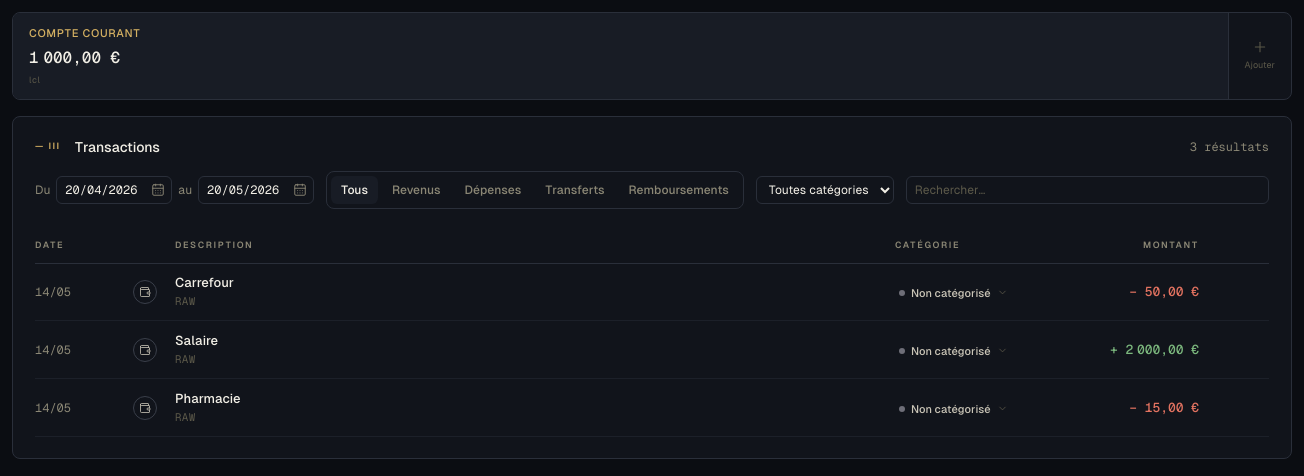
Scenario: TransactionsPage › filters by free-text search on the label
Check: the text "Carrefour" is shown, box [175,274,234,290]
In the search field labelled "Rechercher": (1087, 190) [906,176,1269,204], type "pharma"
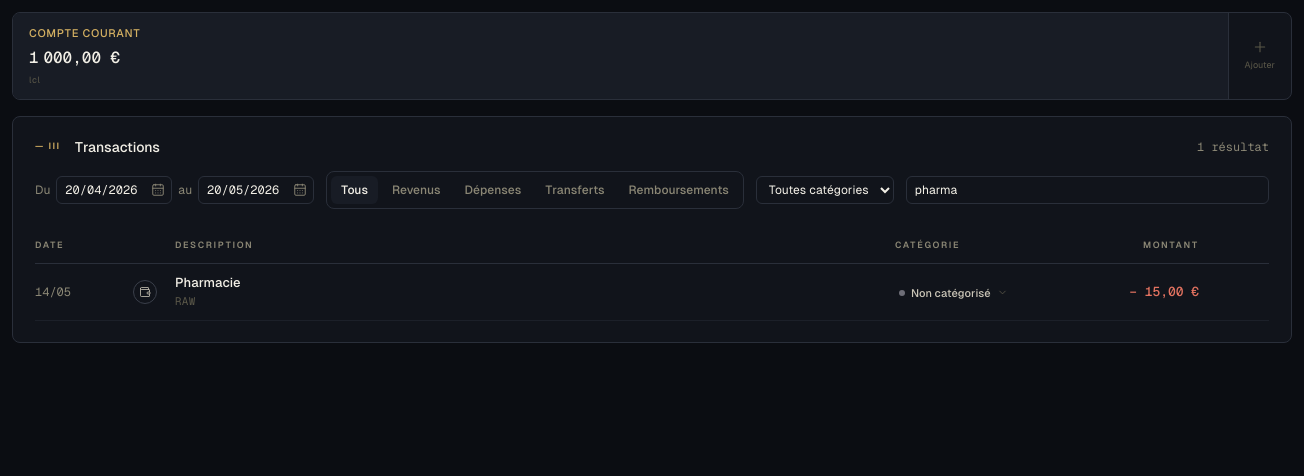
Check: the text "Pharmacie" is shown, box [175,274,241,290]
Check: the text "Carrefour" is gone
Check: the text "Salaire" is gone
